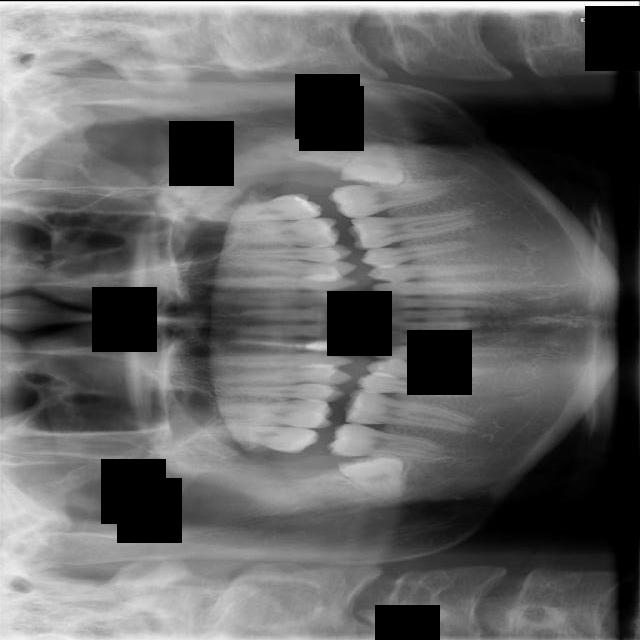52: (274, 191, 325, 221), (309, 337, 353, 353)
73: (225, 334, 313, 352), (563, 74, 572, 76)
BioHorizons Implant: (190, 190, 325, 230)
Biomet 3i Implant: (338, 136, 409, 190)
Blue Sky Bio Implant: (326, 177, 450, 221)
Caries: (182, 420, 321, 453)
Implant: (326, 421, 448, 461)
Keystone Dental Implant: (337, 452, 405, 500)
